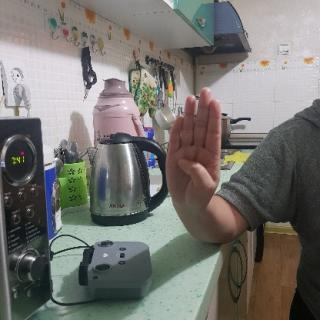KAAF: (160, 85, 230, 214)
